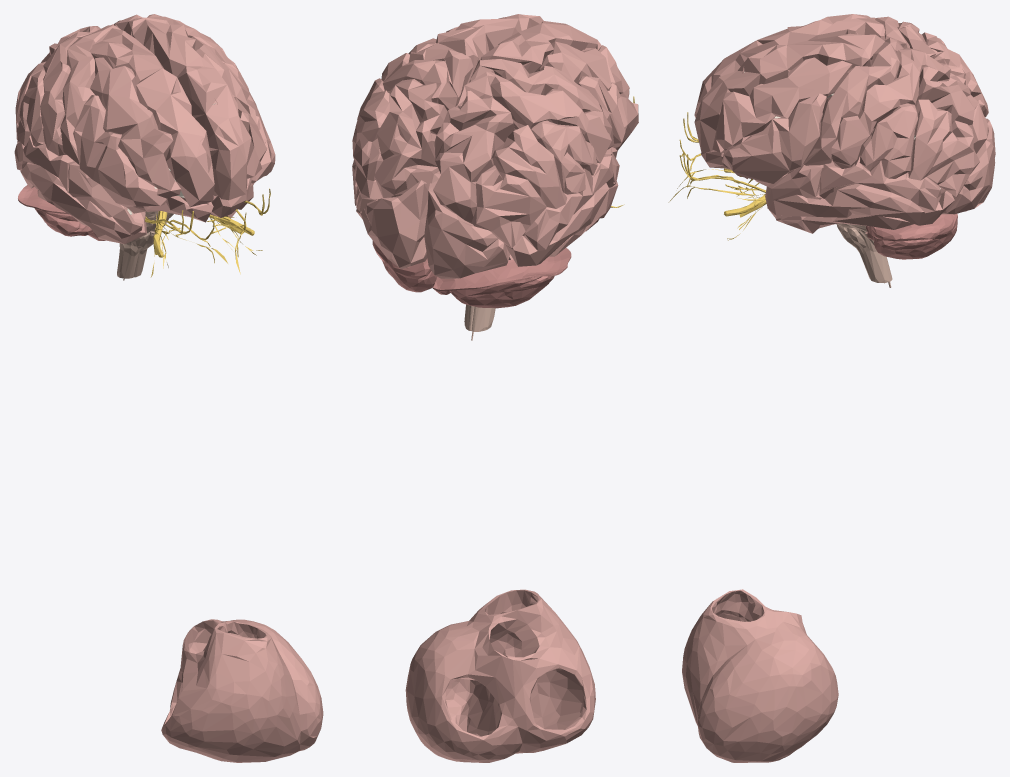
Rendered from nervoso-leve.glb.
3 views of the same model, side by side, from view 1: azimuth 30°, elevation 25°; view 2: azimuth 150°, elevation 25°; view 3: azimuth 270°, elevation 25° (orthographic). The views are drawn at different scales.
Parts seen in each view (by area): view 1: FMA13884, FMA72654, FMA72653, FMA72655, FMA72657, FMA72661, FMA72665, FMA72685, FMA72656, FMA72800, FMA256194, FMA72667 (+7 smaller); view 2: FMA13884, FMA72669, FMA72671, FMA72672, FMA72975, FMA72665, FMA72976, FMA67944, FMA72653, FMA72661, FMA72670, FMA72667 (+9 smaller); view 3: FMA13884, FMA72654, FMA72656, FMA72658, FMA72670, FMA72686, FMA72666, FMA72662, FMA72653, FMA72672, FMA72668, FMA72805 (+7 smaller).
Part boxes in pixels (x1=…): FMA13884: x1=161, y1=619, x2=323, y2=762; FMA72654: x1=131, y1=19, x2=251, y2=200; FMA72653: x1=91, y1=28, x2=214, y2=207; FMA72655: x1=90, y1=57, x2=180, y2=198; FMA72657: x1=73, y1=95, x2=166, y2=206; FMA72661: x1=60, y1=25, x2=120, y2=164; FMA72665: x1=40, y1=26, x2=100, y2=155; FMA72685: x1=20, y1=162, x2=131, y2=238; FMA72656: x1=188, y1=35, x2=267, y2=178; FMA72800: x1=68, y1=162, x2=142, y2=235; FMA256194: x1=127, y1=177, x2=255, y2=222; FMA72667: x1=17, y1=70, x2=45, y2=146; FMA13884: x1=405, y1=589, x2=595, y2=762; FMA72669: x1=471, y1=125, x2=567, y2=248; FMA72671: x1=431, y1=90, x2=514, y2=223; FMA72672: x1=374, y1=79, x2=447, y2=198; FMA72975: x1=424, y1=183, x2=510, y2=278; FMA72665: x1=456, y1=71, x2=611, y2=163; FMA72976: x1=361, y1=180, x2=428, y2=268; FMA67944: x1=372, y1=240, x2=554, y2=308; FMA72653: x1=480, y1=21, x2=601, y2=73; FMA72661: x1=469, y1=59, x2=614, y2=149; FMA72670: x1=352, y1=90, x2=389, y2=211; FMA72667: x1=531, y1=120, x2=597, y2=194; FMA13884: x1=682, y1=589, x2=838, y2=762; FMA72654: x1=694, y1=33, x2=884, y2=152; FMA72656: x1=712, y1=57, x2=852, y2=152; FMA72658: x1=722, y1=93, x2=826, y2=183; FMA72670: x1=908, y1=99, x2=979, y2=197; FMA72686: x1=769, y1=183, x2=954, y2=225; FMA72666: x1=831, y1=48, x2=926, y2=168; FMA72662: x1=803, y1=38, x2=903, y2=165; FMA72653: x1=694, y1=14, x2=884, y2=117; FMA72672: x1=913, y1=54, x2=988, y2=153; FMA72668: x1=859, y1=103, x2=917, y2=178; FMA72805: x1=819, y1=158, x2=941, y2=213.
Bounding box in the file's own units: 0.1501 × 0.4555 × 0.1955.
